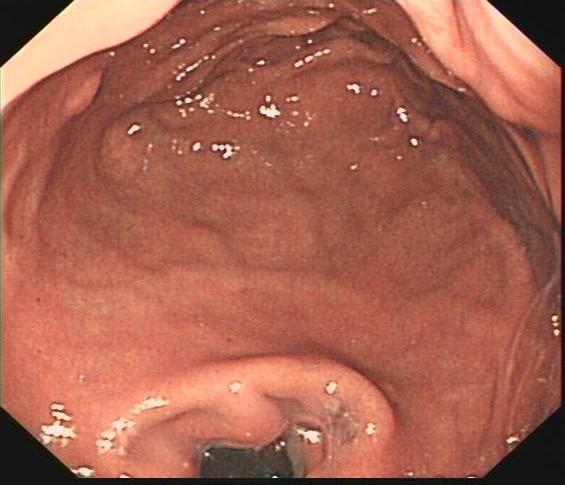Polyp: (55, 64, 111, 125)
